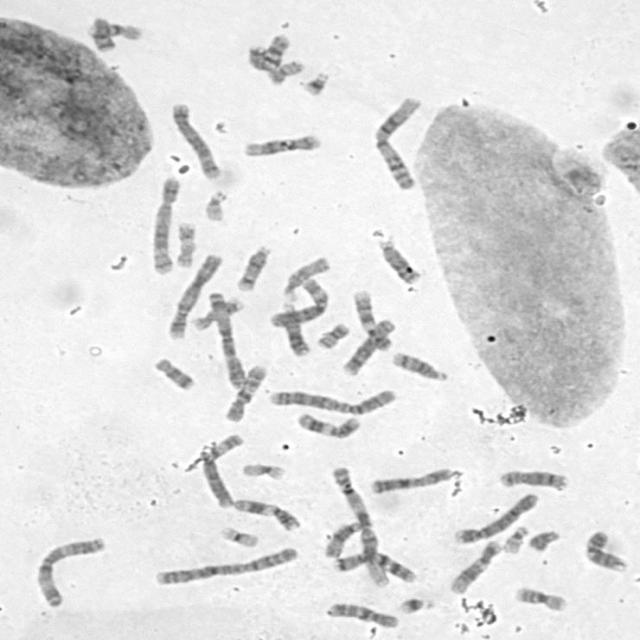A1: (326, 461, 390, 588), (370, 92, 426, 191)
A2: (149, 542, 300, 587), (263, 383, 399, 416)
A3: (30, 532, 108, 608), (205, 288, 248, 389)
B4: (164, 250, 225, 340), (451, 489, 542, 545)
B5: (168, 98, 224, 180), (146, 172, 183, 276)
C10: (220, 360, 269, 423), (323, 599, 401, 629)
C11: (229, 495, 303, 532), (294, 409, 363, 439)
C12: (446, 536, 505, 596), (238, 130, 324, 158)
C6: (196, 429, 247, 510), (266, 274, 330, 329)
C7: (328, 548, 418, 584), (244, 30, 291, 72)
C8: (339, 315, 399, 377), (496, 466, 571, 492)
C9: (350, 286, 394, 351), (580, 526, 630, 573)
D13: (374, 235, 422, 285), (277, 298, 312, 357)
D14: (388, 348, 452, 382), (233, 242, 274, 292)
D15: (277, 252, 331, 300), (320, 516, 370, 560)
E16: (511, 583, 570, 613), (86, 16, 144, 42)
E17: (190, 293, 246, 332), (171, 218, 198, 269)
E18: (151, 354, 197, 391), (86, 14, 118, 52)
F19: (216, 523, 261, 549), (238, 459, 288, 481)
F20: (264, 56, 307, 86), (312, 319, 352, 350)
G21: (298, 67, 332, 97), (396, 593, 432, 616)
G22: (200, 186, 231, 223), (500, 522, 531, 554)
X: (366, 464, 456, 495)
Y: (524, 526, 562, 552)
